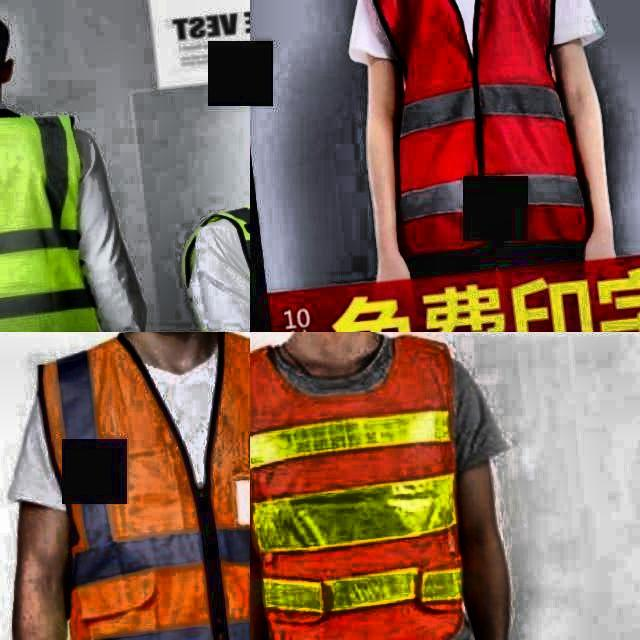safety_jacket: (250, 332, 489, 640), (27, 332, 250, 640), (347, 0, 589, 256), (0, 112, 99, 332)
